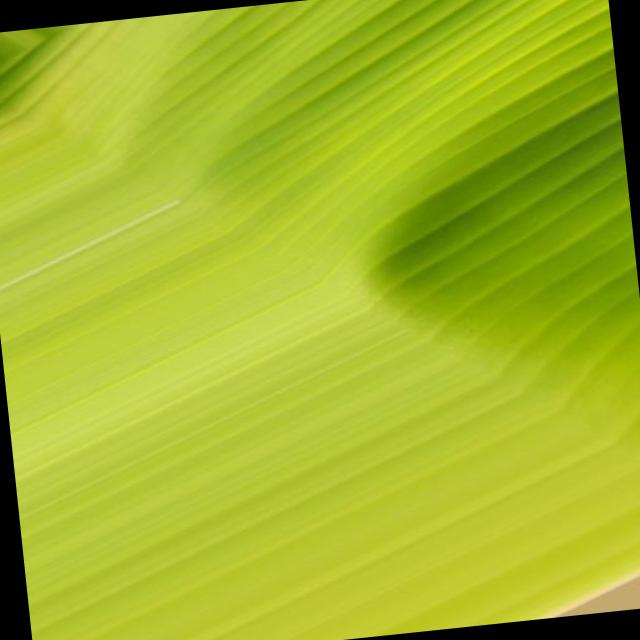Banana_Healthy: (83, 80, 528, 526)
